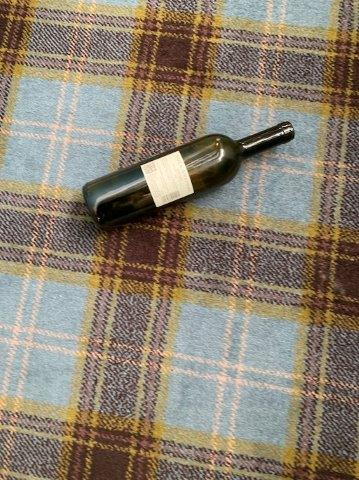botolkaca: (82, 119, 295, 225)
